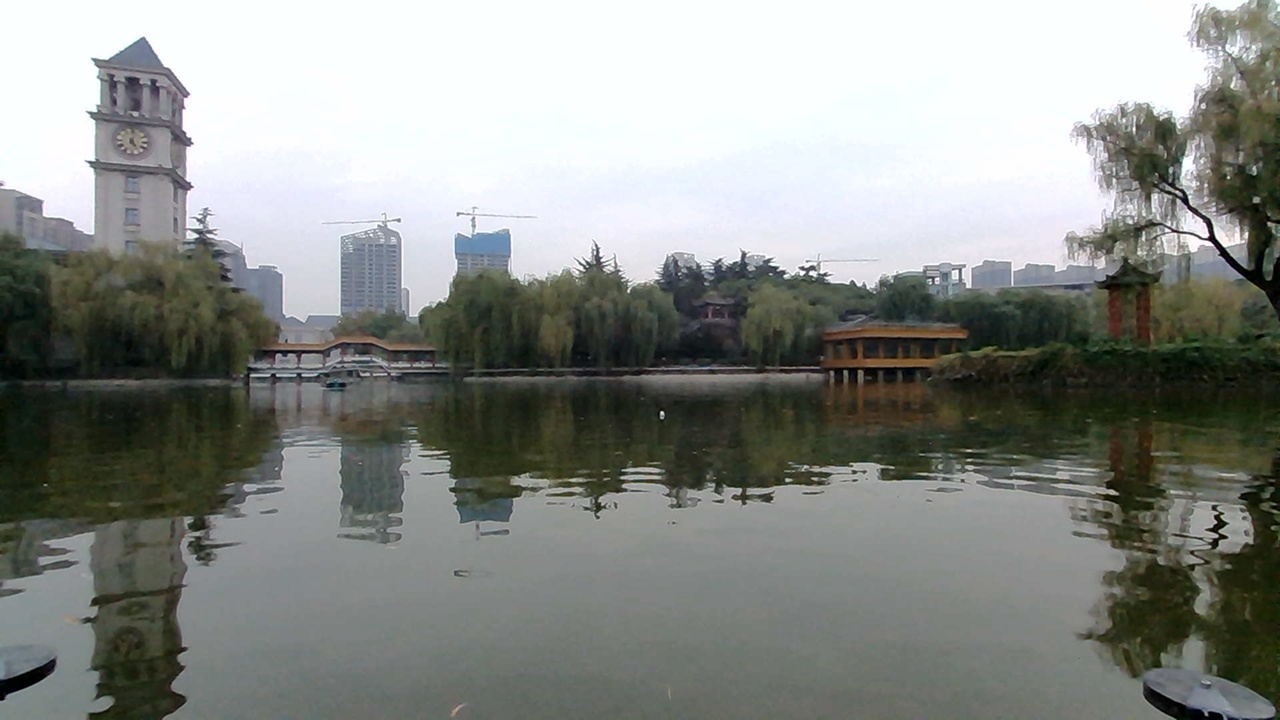bottle: (640, 401, 674, 426)
